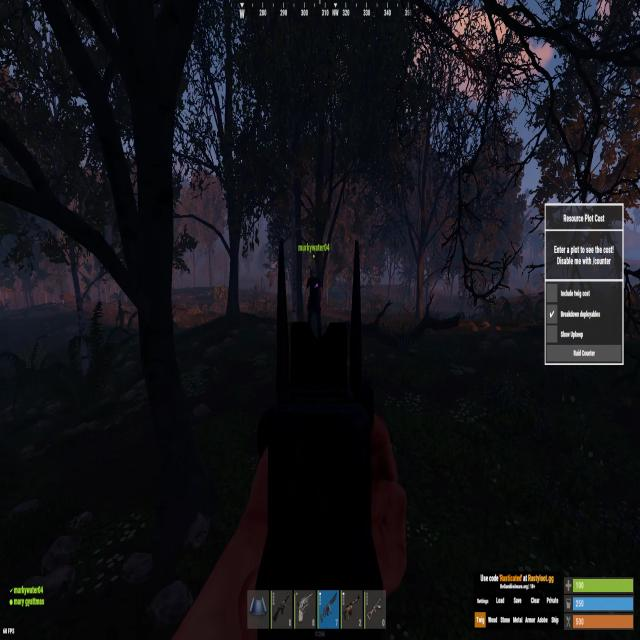Player: (305, 265, 324, 341)
